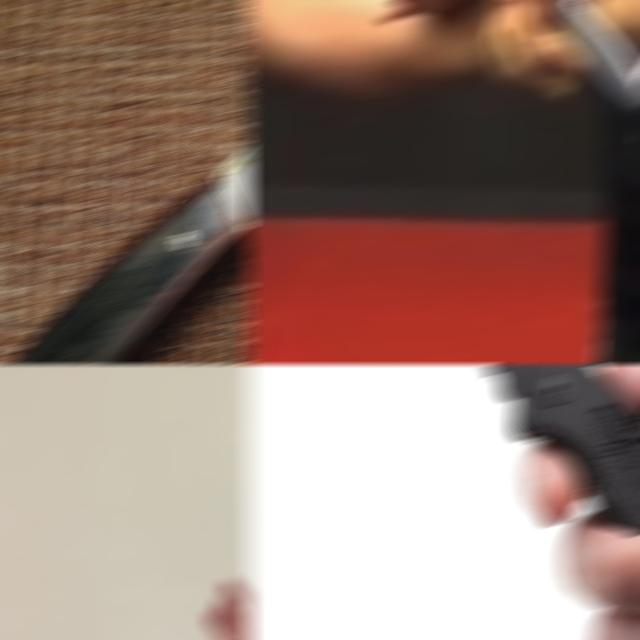Knife: (476, 364, 640, 531), (554, 0, 640, 110)
Knife_Handle: (474, 0, 640, 122)
